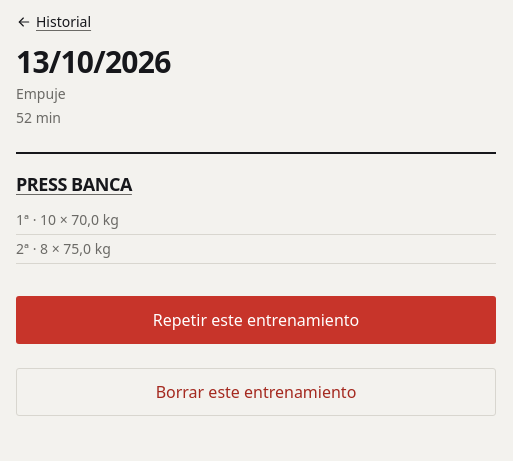
WorkoutDetailPage › repeating a workout › asks before replacing a workout that is still open, and cancel leaves it alone
Step 1. Click the button "Repetir este entrenamiento" → click(256, 320), box [16,296,496,344]
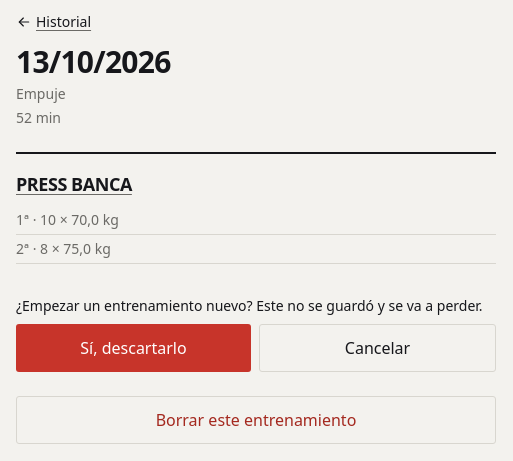
Expected: the text "¿Empezar un entrenamiento nuevo? Este no se guardó y se va a perder." is shown, [16,296,496,316]
Expected: the button "Sí, descartarlo" is shown, [16,324,251,372]
Step 2. Click the button "Cancelar" → click(378, 348), box [259,324,496,372]
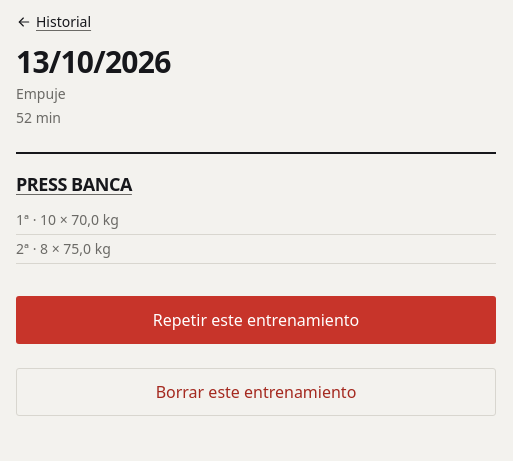
Expected: the button "Sí, descartarlo" is gone
